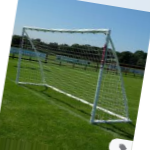goals: (15, 23, 131, 125)
